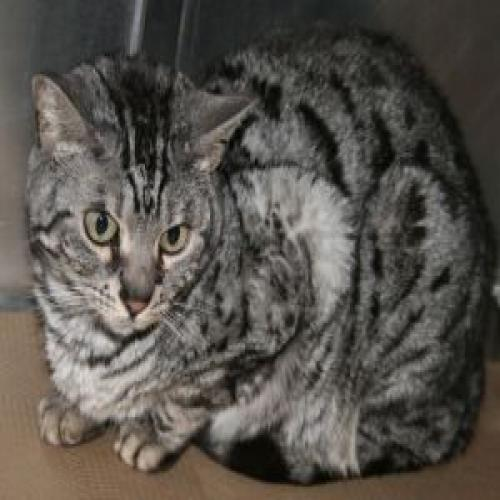bengal: (22, 43, 264, 362)
